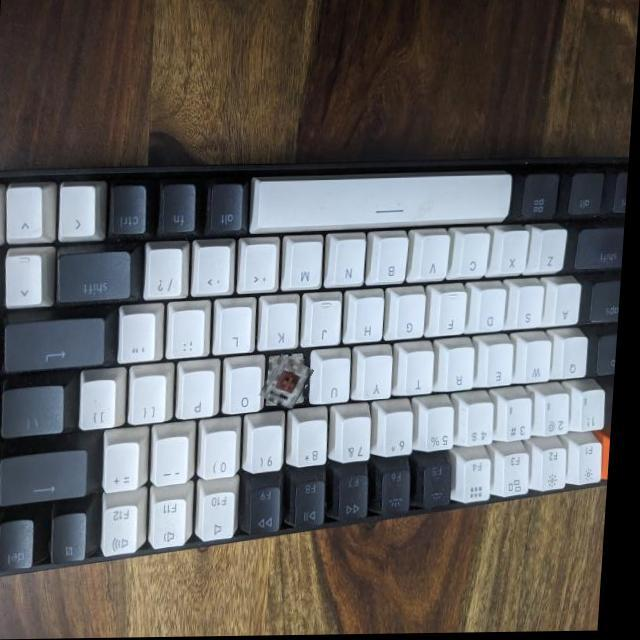key-switch: (266, 358, 315, 411)
